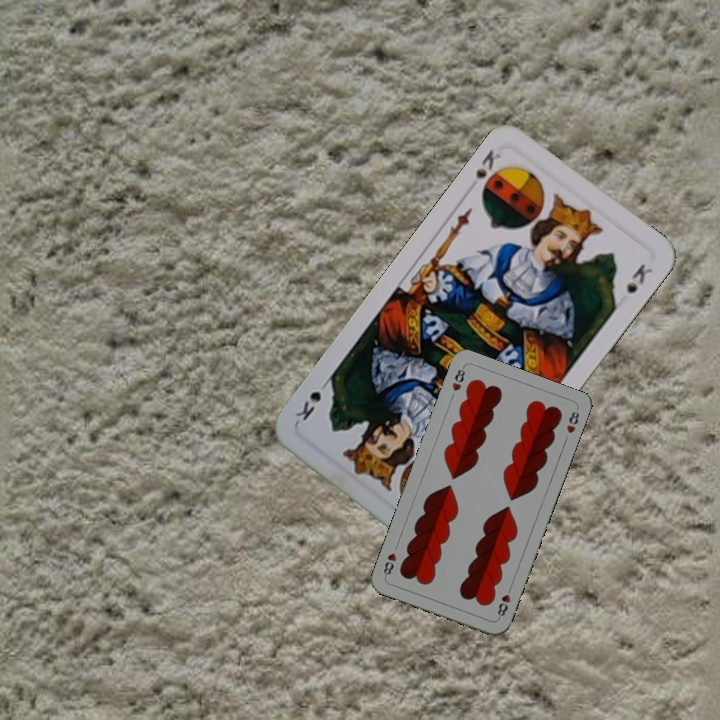H8: (493, 582, 514, 621), (448, 363, 468, 394)
SK: (471, 145, 505, 181)
